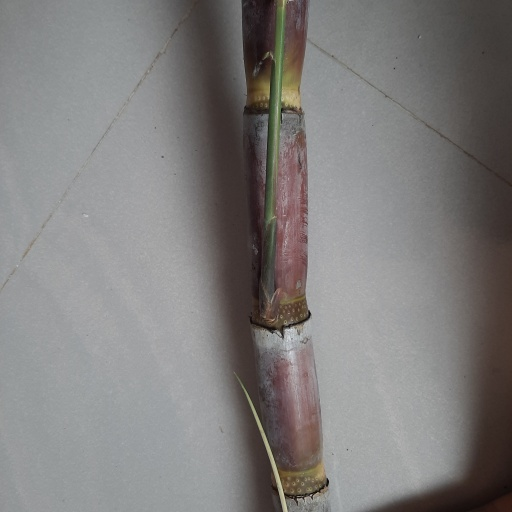Sprouted_Bud: (257, 256, 281, 325)
